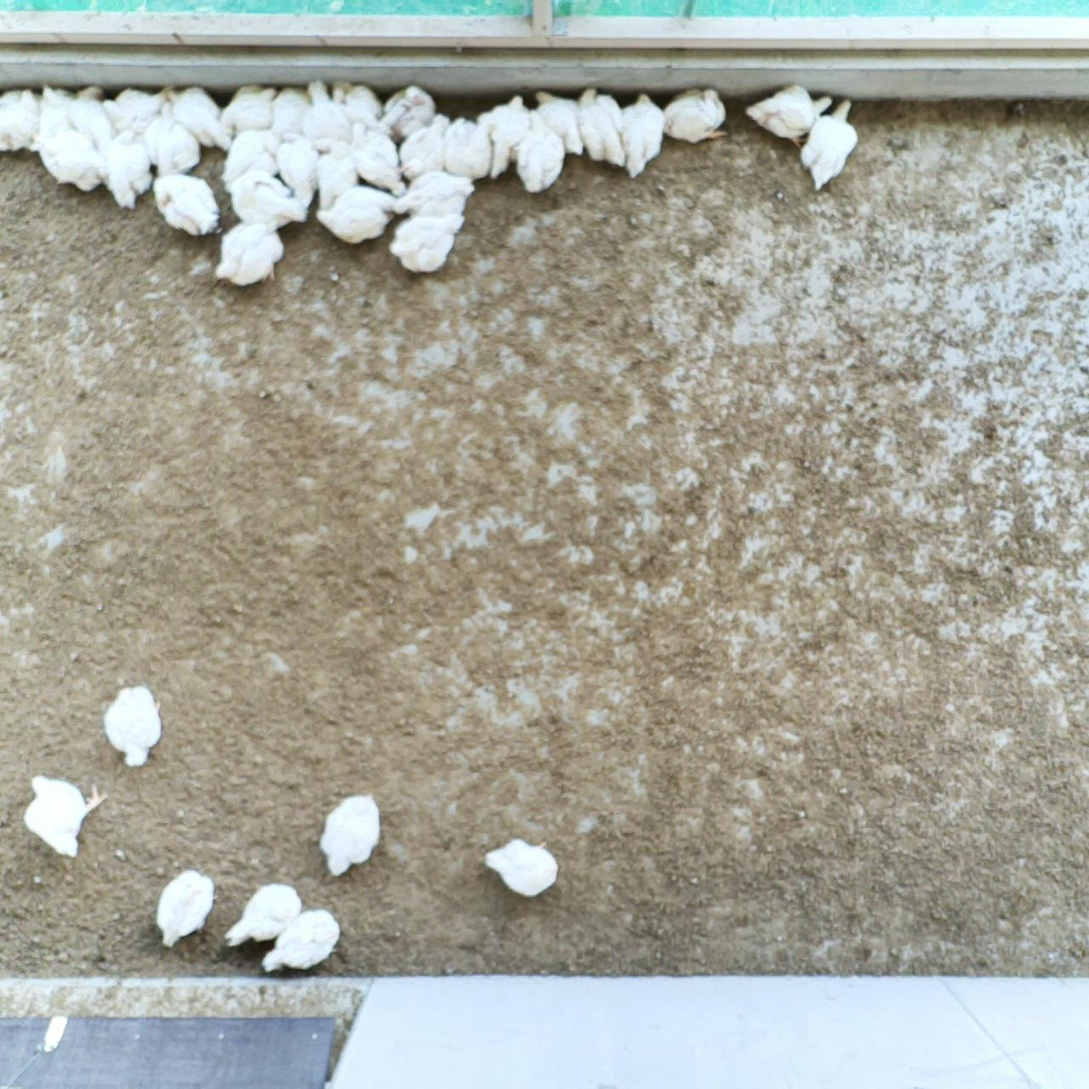chicken: (20, 772, 109, 861), (739, 84, 838, 155), (797, 97, 866, 196), (98, 681, 172, 770), (258, 904, 344, 978), (315, 790, 386, 879), (222, 877, 303, 951), (478, 831, 563, 901), (153, 865, 220, 951), (386, 207, 468, 273), (311, 185, 401, 245), (229, 170, 318, 229), (95, 126, 155, 213), (211, 220, 286, 289), (150, 169, 223, 239), (510, 107, 569, 193), (143, 97, 205, 176), (162, 84, 233, 152), (620, 90, 671, 181), (38, 124, 101, 197), (219, 126, 283, 196), (573, 83, 626, 167), (347, 120, 406, 195), (663, 84, 732, 147), (483, 92, 532, 178), (391, 169, 477, 217), (532, 86, 587, 158), (103, 84, 177, 137), (400, 111, 453, 182), (276, 130, 322, 208), (217, 83, 280, 139), (311, 138, 359, 210), (298, 78, 348, 146), (444, 117, 493, 180), (29, 83, 72, 154), (384, 85, 440, 139), (0, 86, 41, 155), (66, 90, 115, 145), (332, 76, 384, 127), (271, 85, 314, 134)
